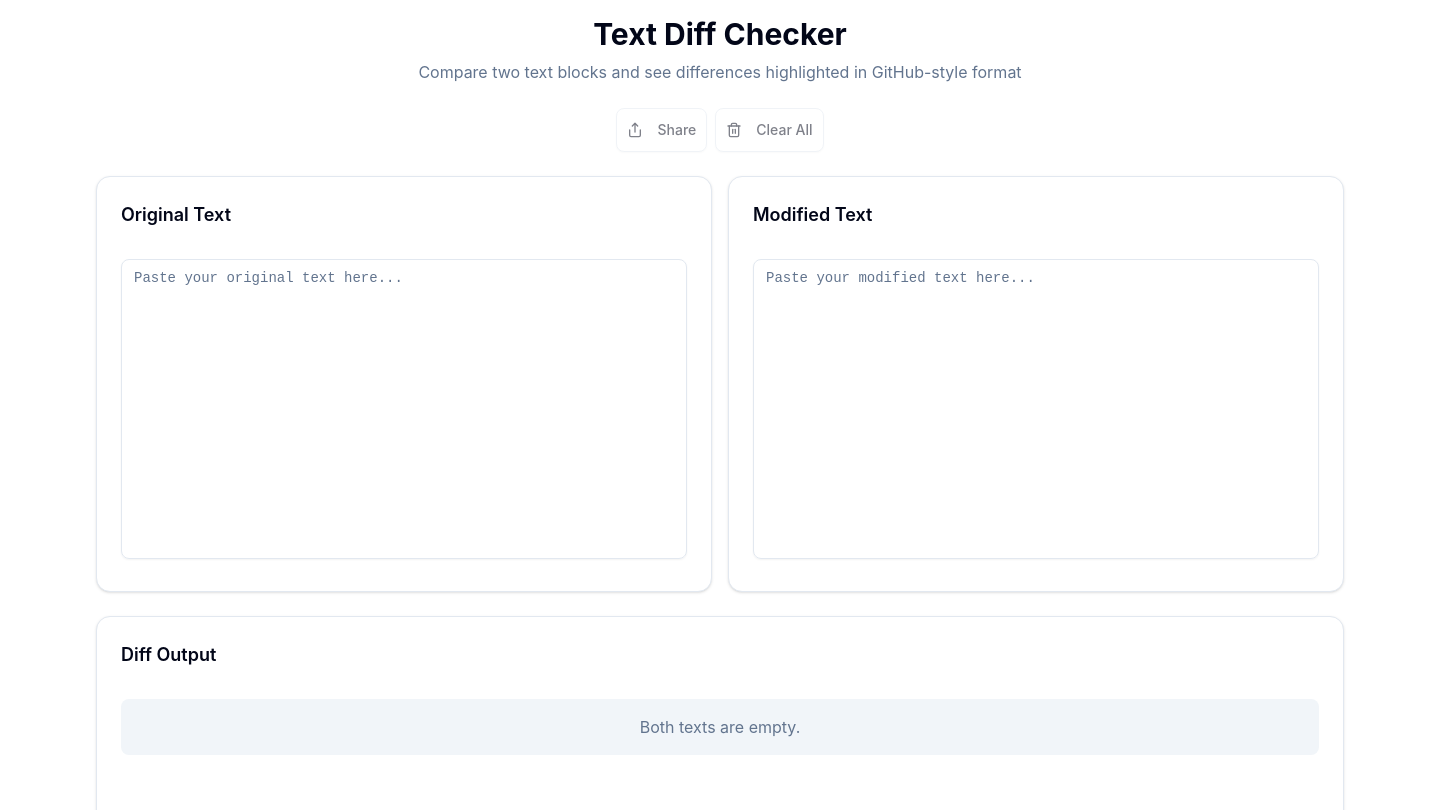
it: DiffChecker › clear all button clears both inputs
Note: Add text to both inputs
Type "Original text" into the text box with placeholder "Paste your original text here..." at (404, 409), box [121, 259, 687, 559]
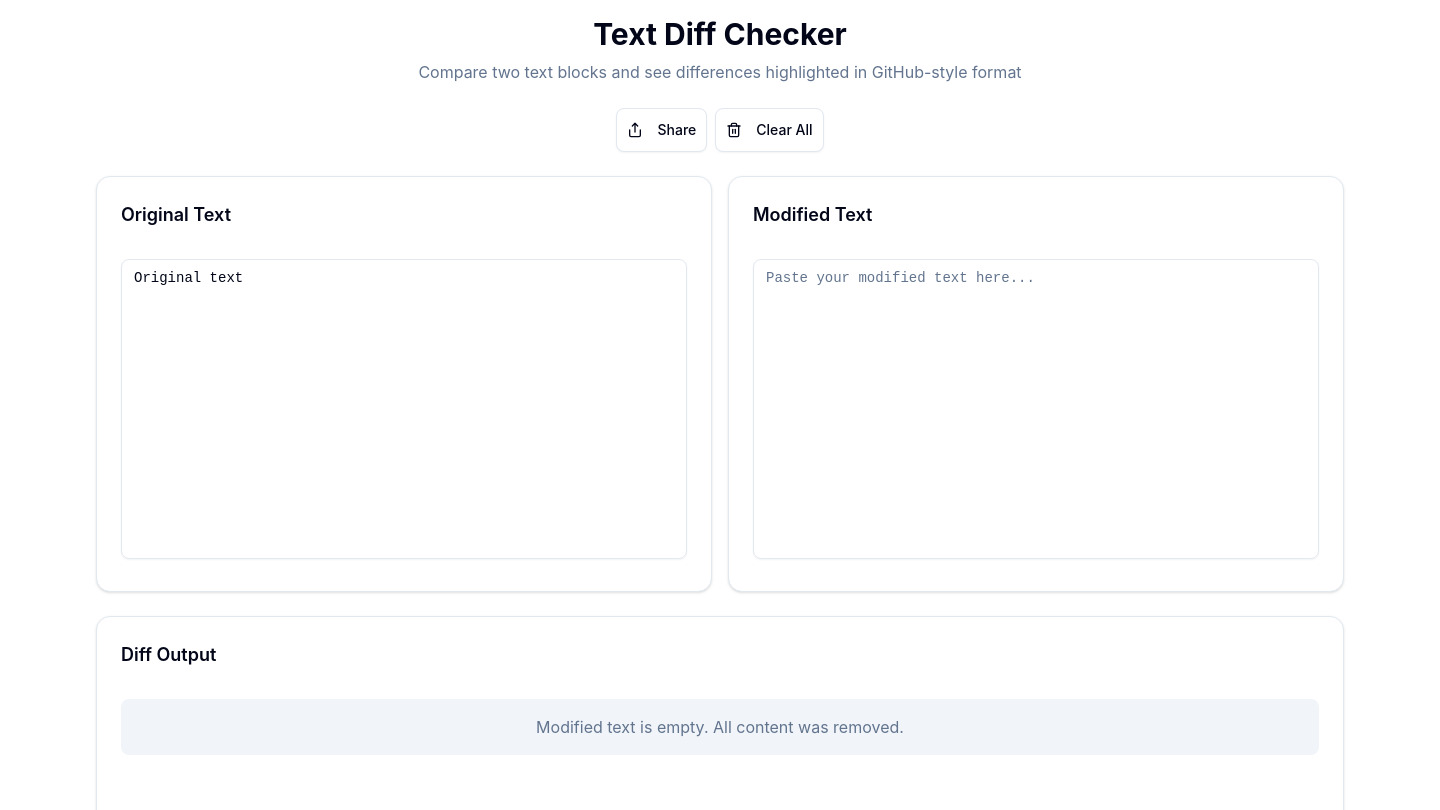
Type "Modified text" into the text box with placeholder "Paste your modified text here..." at (1036, 409), box [753, 259, 1319, 559]
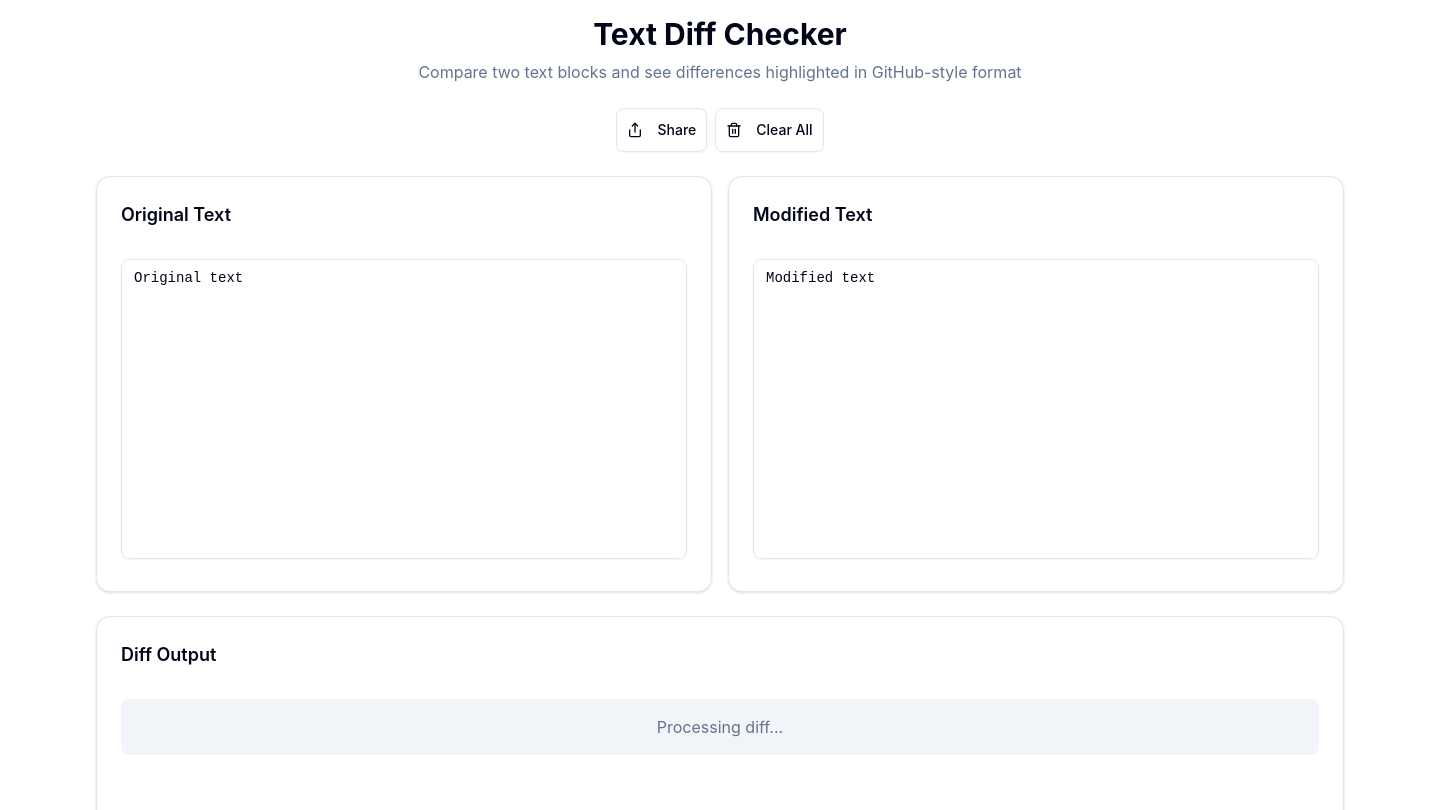
Note: Click clear all button
Click the button "Clear All" at (769, 130), box [715, 108, 824, 152]
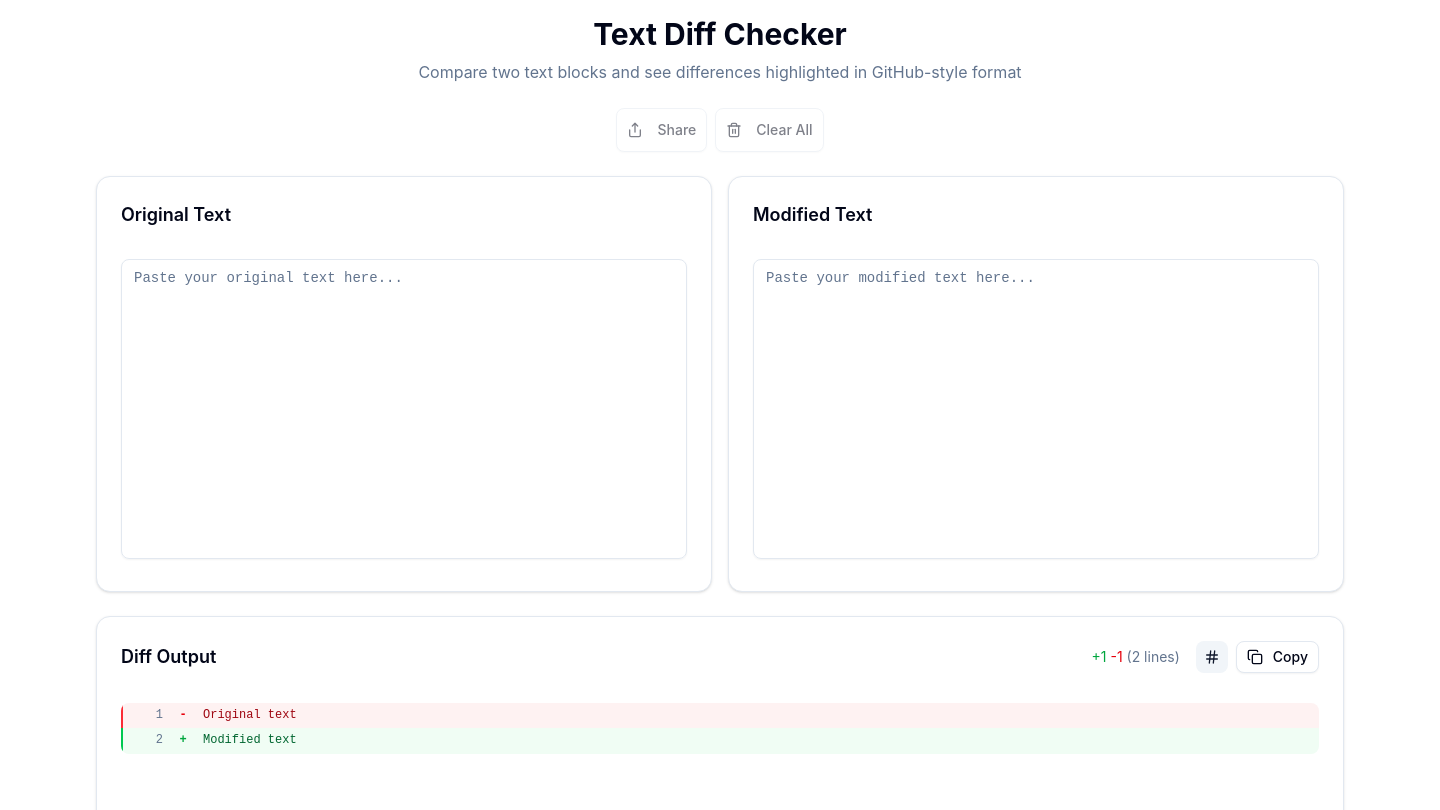
Expected: the text box with placeholder "Paste your original text here..." is empty, [121, 259, 687, 559]
Expected: the text box with placeholder "Paste your modified text here..." is empty, [753, 259, 1319, 559]
